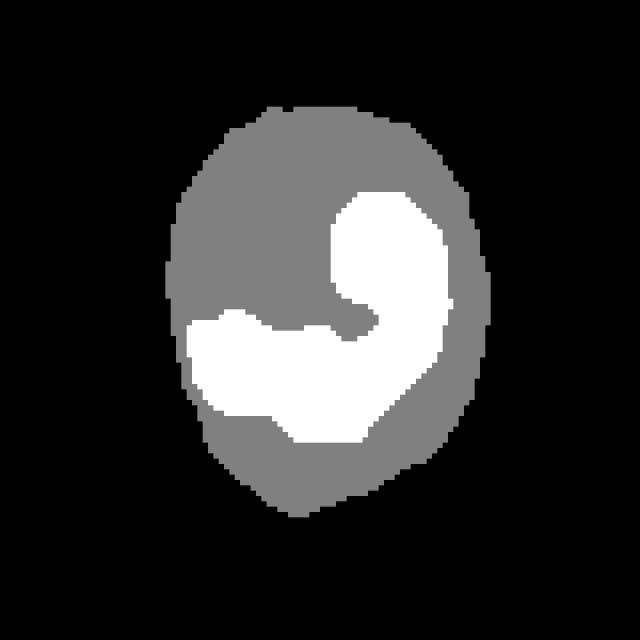WBC: (144, 85, 507, 539)
